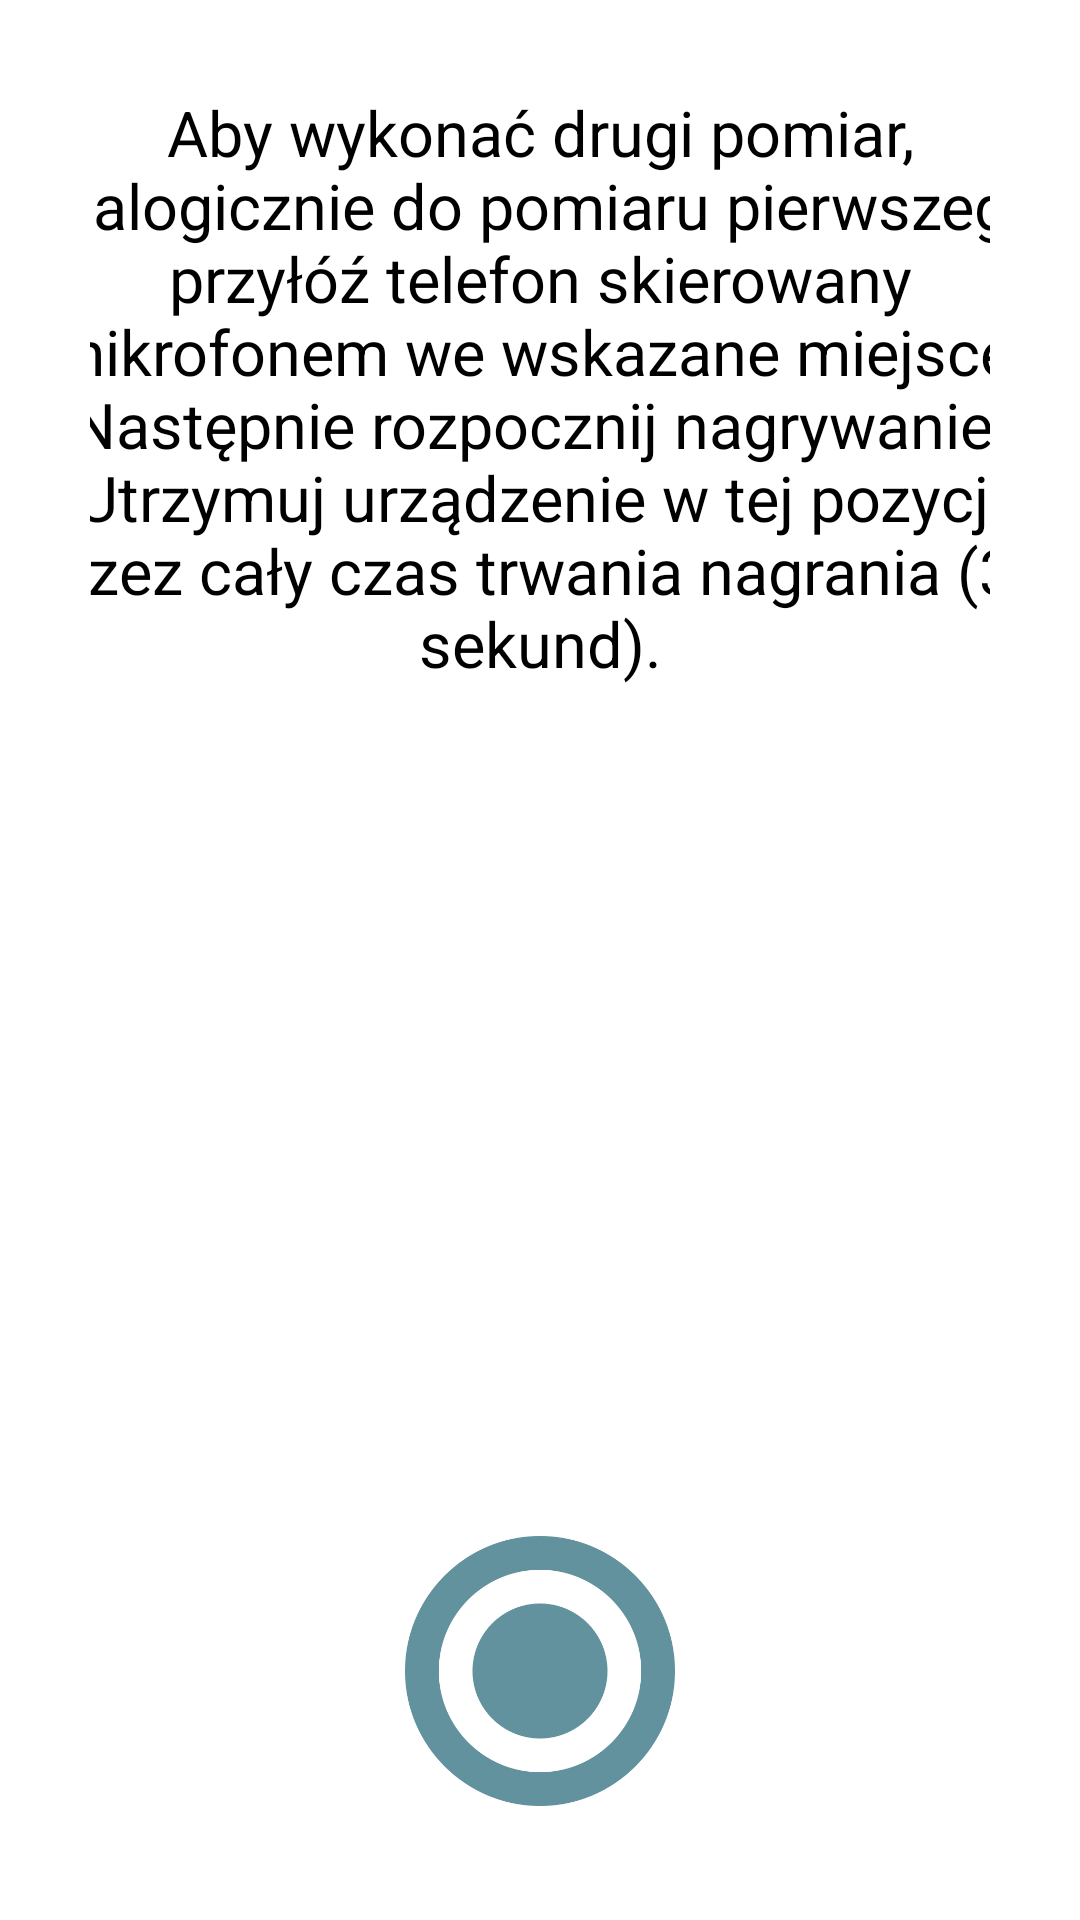

Named icons in this screenshot (1080*1920) and their bounding boxes, (x1, y1, x2, y2):
record: (405, 1536, 675, 1806)
